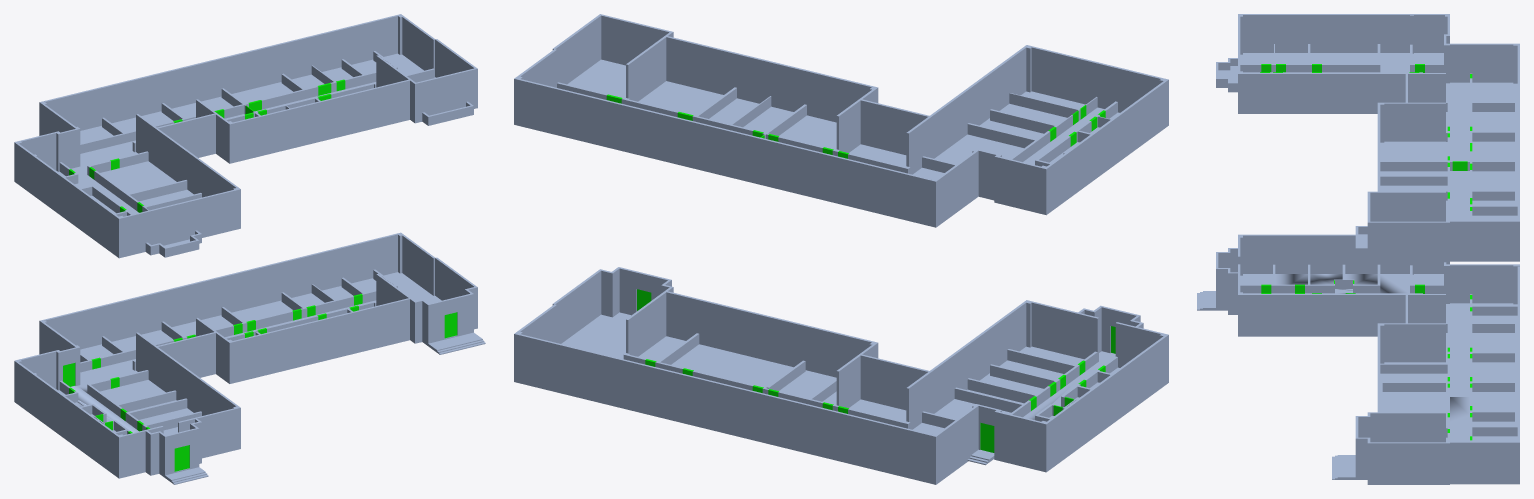
The model's file is Water_Quality_Building_expansion.glb.
3 renders of one model, left to right at view 1: azimuth 30°, elevation 25°; view 2: azimuth 150°, elevation 25°; view 3: azimuth 270°, elevation 25°, orthographic. The views are drawn at different scales.
Parts seen in each view (by area): view 1: Floor1, Floor2; view 2: Floor1, Floor2; view 3: Floor1, Floor2.
Part boxes in pixels (x1=…): Floor1: x1=14, y1=232, x2=485, y2=484; Floor2: x1=14, y1=14, x2=477, y2=258; Floor1: x1=514, y1=267, x2=1168, y2=484; Floor2: x1=514, y1=14, x2=1168, y2=227; Floor1: x1=1197, y1=234, x2=1519, y2=484; Floor2: x1=1216, y1=14, x2=1519, y2=262.
Bounding box in the file's own units: 49.42 × 29 × 32.34.
